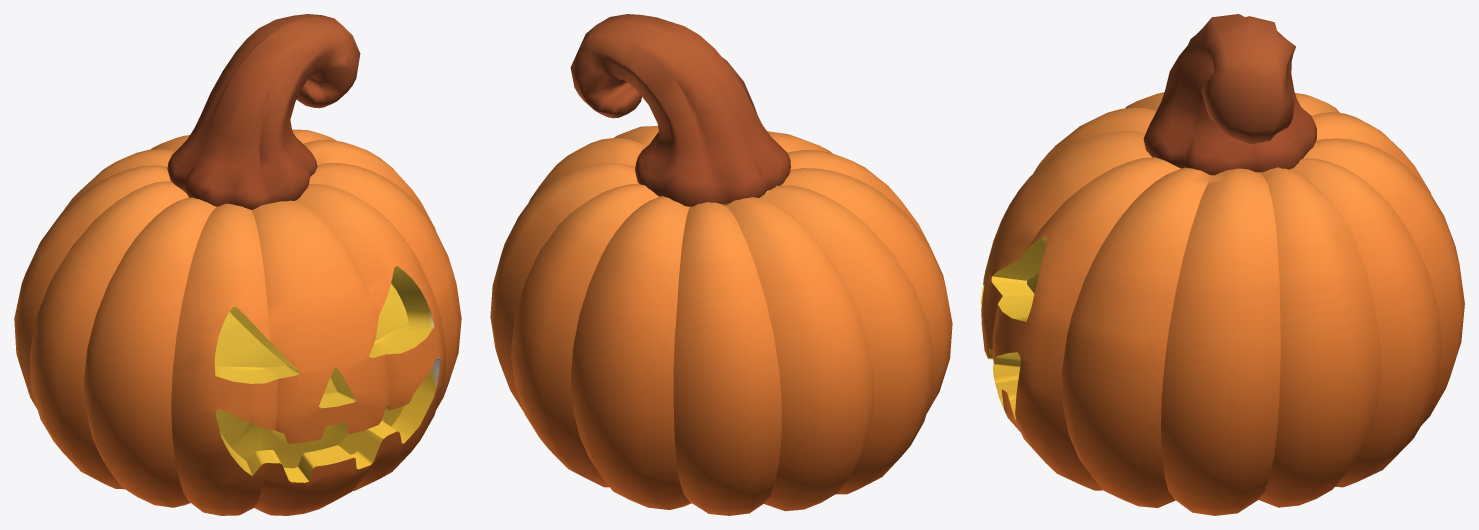
Rendered from WBA_Pumpkin_JackOLantern_01.fbx.
The picture shows the model from 3 angles, left to right: view 1: azimuth 30°, elevation 25°; view 2: azimuth 150°, elevation 25°; view 3: azimuth 270°, elevation 25°; orthographic projection. The views are drawn at different scales.
Parts seen in each view (by area): view 1: WBA_Pumpkin_JackOLantern_01; view 2: WBA_Pumpkin_JackOLantern_01; view 3: WBA_Pumpkin_JackOLantern_01.
Part boxes in pixels (x1,y1,x2,y2): WBA_Pumpkin_JackOLantern_01: (14,14,461,515); WBA_Pumpkin_JackOLantern_01: (490,14,952,515); WBA_Pumpkin_JackOLantern_01: (981,14,1464,515).
Bounding box in the file's own units: 38.88 × 39.8 × 36.77.
